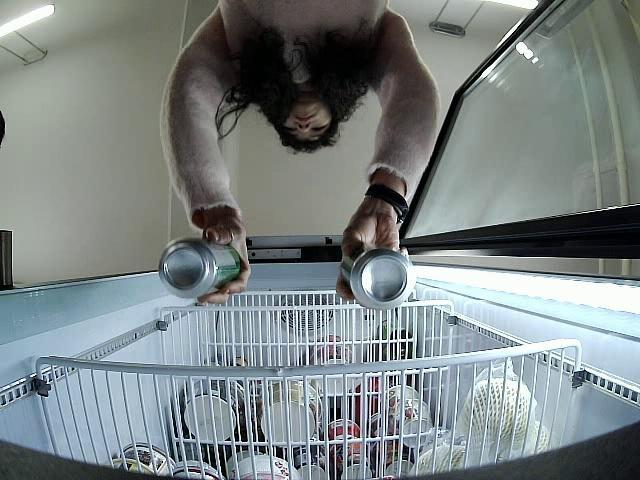12_chilsungCider: (158, 237, 242, 298), (340, 249, 416, 310)
